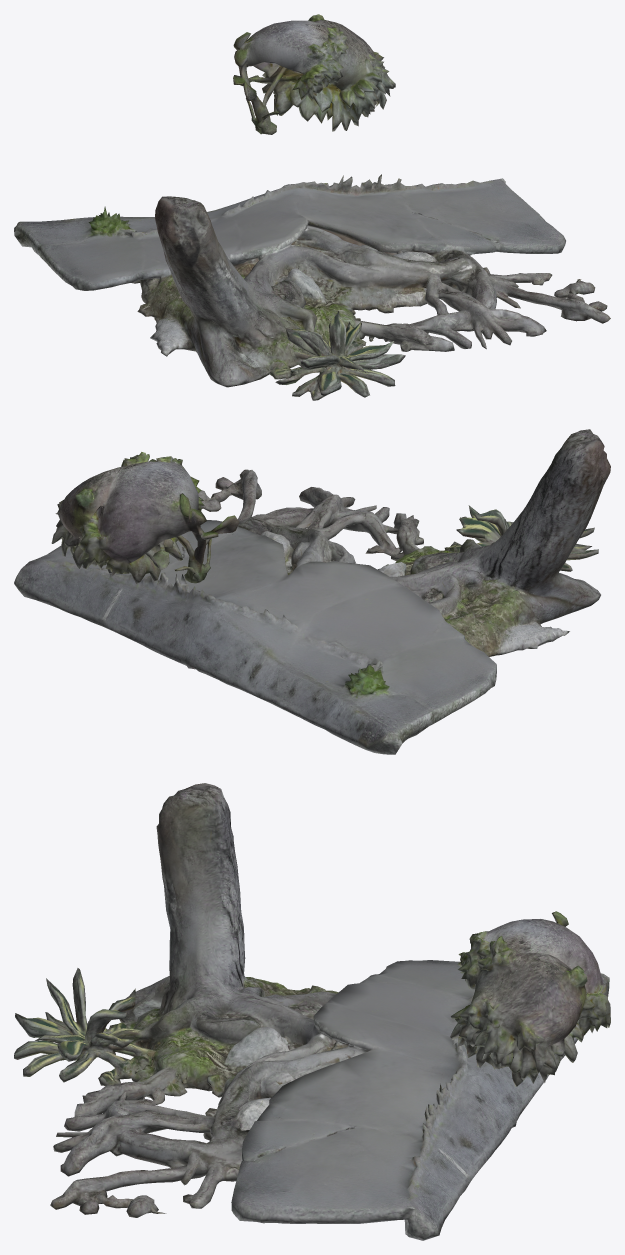
File: uneven_3.glb
The picture shows the model from 3 angles, top to bottom: view 1: azimuth 30°, elevation 25°; view 2: azimuth 150°, elevation 25°; view 3: azimuth 270°, elevation 25°; orthographic projection. The views are drawn at different scales.
Parts seen in each view (by area): view 1: Mesh1.0; view 2: Mesh1.0; view 3: Mesh1.0.
Boxes of the visible parts, x1,y1,x2,y2 form: Mesh1.0: [14, 14, 610, 400]; Mesh1.0: [14, 429, 610, 754]; Mesh1.0: [14, 783, 610, 1240].
Size of the model in its own units: 1.91 by 0.7635 by 1.87.
Materials: 1 (1 with a texture image).
